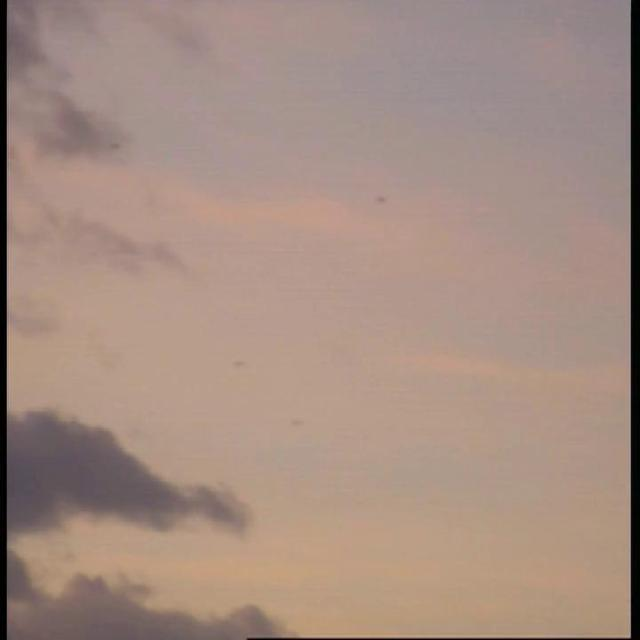drone: (370, 191, 396, 209), (228, 354, 250, 374), (103, 136, 126, 154), (286, 413, 310, 430)
